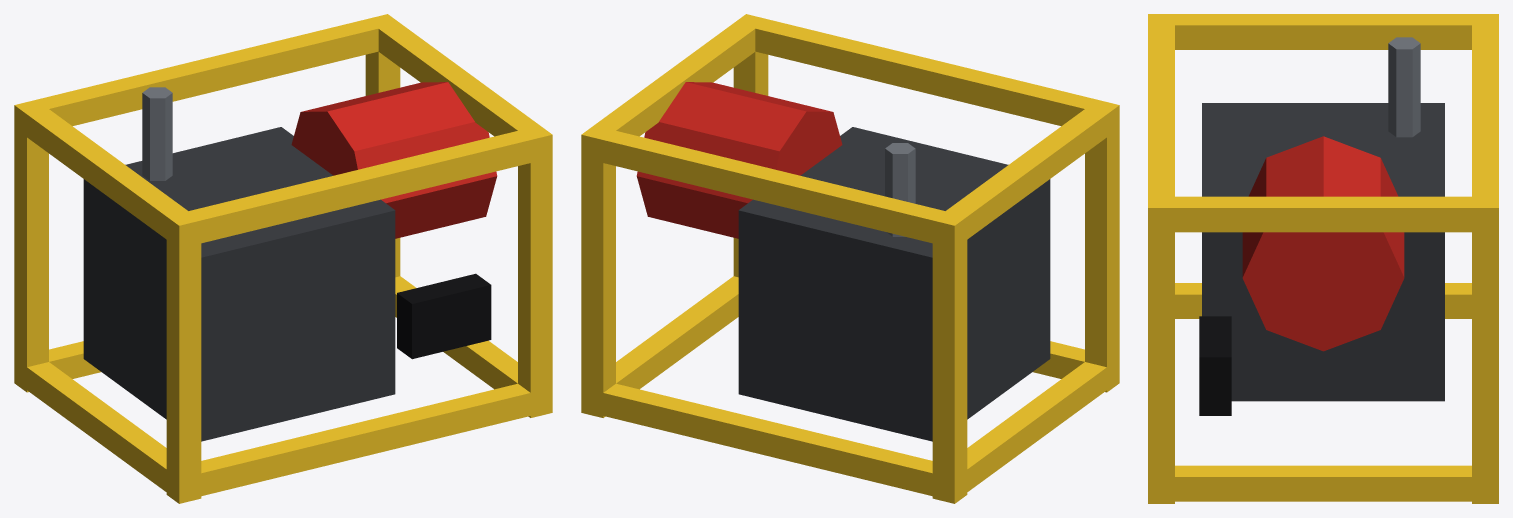
Rendered from Generador.fbx.
3 renders of one model, left to right at view 1: azimuth 30°, elevation 25°; view 2: azimuth 150°, elevation 25°; view 3: azimuth 270°, elevation 25°, orthographic. The views are drawn at different scales.
Parts seen in each view (by area): view 1: Generador; view 2: Generador; view 3: Generador.
Boxes of the visible parts, box(x1,y1,x2,y2) form: Generador: box(14, 14, 552, 503); Generador: box(581, 14, 1119, 503); Generador: box(1148, 14, 1498, 503).
Size of the model in its own units: 0.85 by 0.65 by 0.65.
